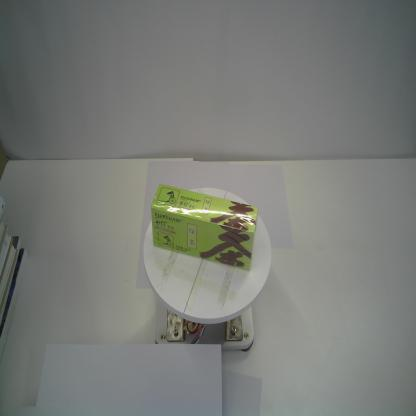Instant Drink: (150, 183, 259, 272)
